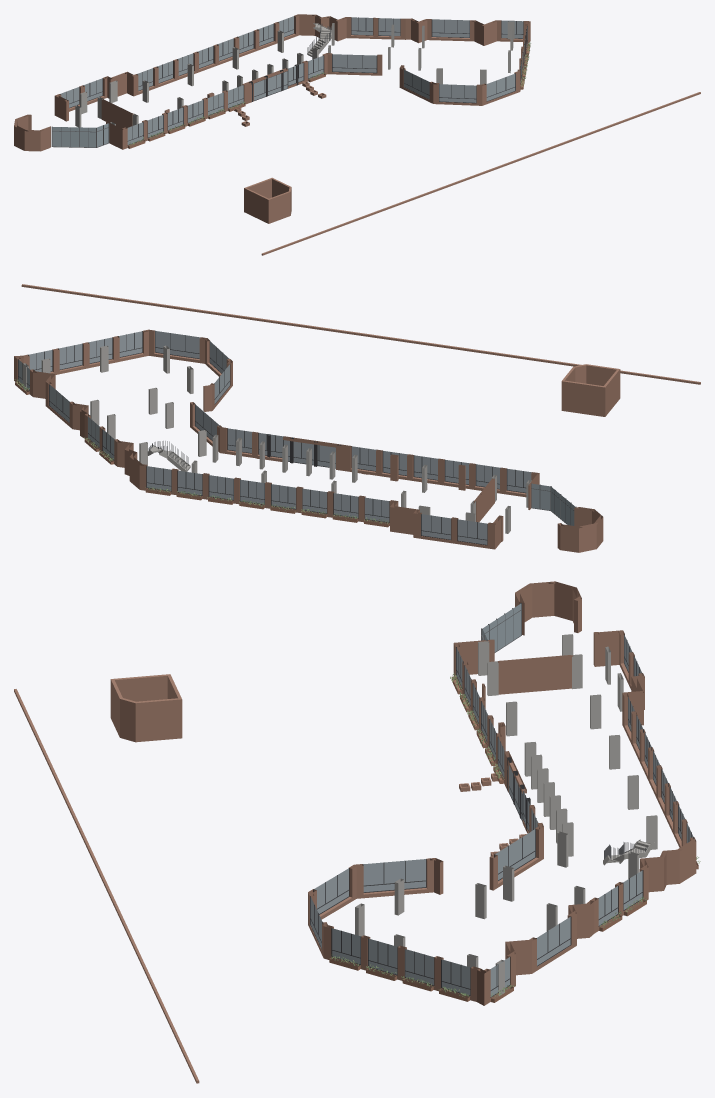
Rendered from revit_nivel_0.glb.
3 renders of one model, top to bottom at view 1: azimuth 30°, elevation 25°; view 2: azimuth 150°, elevation 25°; view 3: azimuth 270°, elevation 25°, orthographic. The views are drawn at different scales.
Visible parts, largest first — view 1: Revit_PISO 1; view 2: Revit_PISO 1; view 3: Revit_PISO 1.
Part boxes in pixels (x1,y1,x2,y2): Revit_PISO 1: (14,14,700,255); Revit_PISO 1: (14,284,700,552); Revit_PISO 1: (14,581,700,1083).
Bounding box in the file's own units: 80.24 × 3.81 × 50.98.
